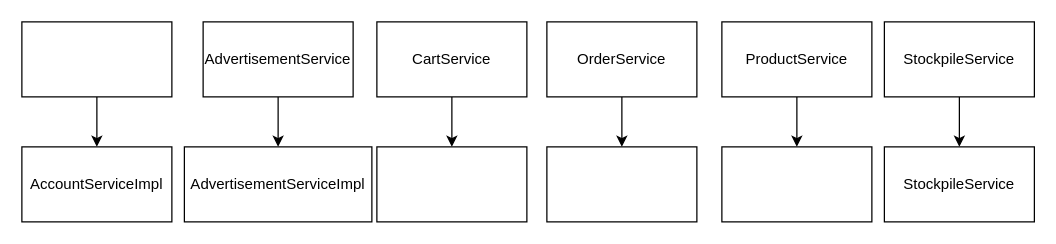
Image size: 1056x244. Some labels were removed from this diagram. The shapes that lost their labels are listed below. From the top down, each one's box as (x1, y1, x2, y2) in pixels, then its label:
(21, 21, 172, 97): AccountService
(376, 146, 527, 222): CartServiceImpl
(546, 146, 697, 222): OrderServiceImpl
(721, 146, 872, 222): ProductServiceImpl
